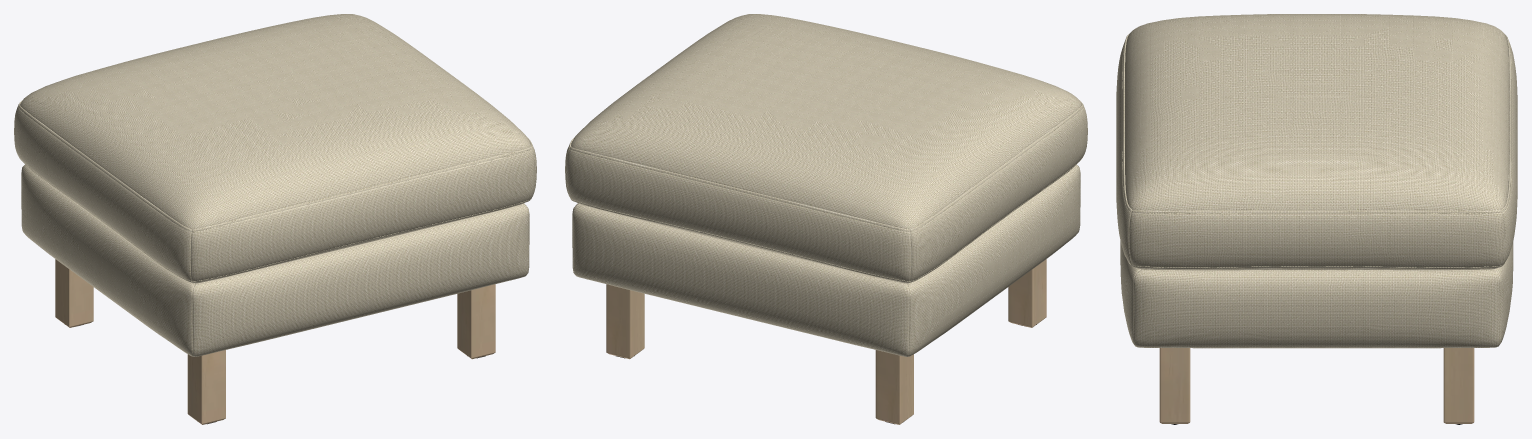
Rendered from saltsjobaden_podnozek_99602361.glb.
The picture shows the model from 3 angles, left to right: view 1: azimuth 30°, elevation 25°; view 2: azimuth 150°, elevation 25°; view 3: azimuth 270°, elevation 25°; orthographic projection. The views are drawn at different scales.
Visible parts, largest first — view 1: saltsjobaden_podnozek_99602361; view 2: saltsjobaden_podnozek_99602361; view 3: saltsjobaden_podnozek_99602361.
Boxes of the visible parts, <box> form: saltsjobaden_podnozek_99602361: <box>14,14,536,424</box>; saltsjobaden_podnozek_99602361: <box>565,14,1087,424</box>; saltsjobaden_podnozek_99602361: <box>1116,14,1517,424</box>.
Size of the model in its own units: 0.71 by 0.4601 by 0.6299.
3 materials, 2 textured.
